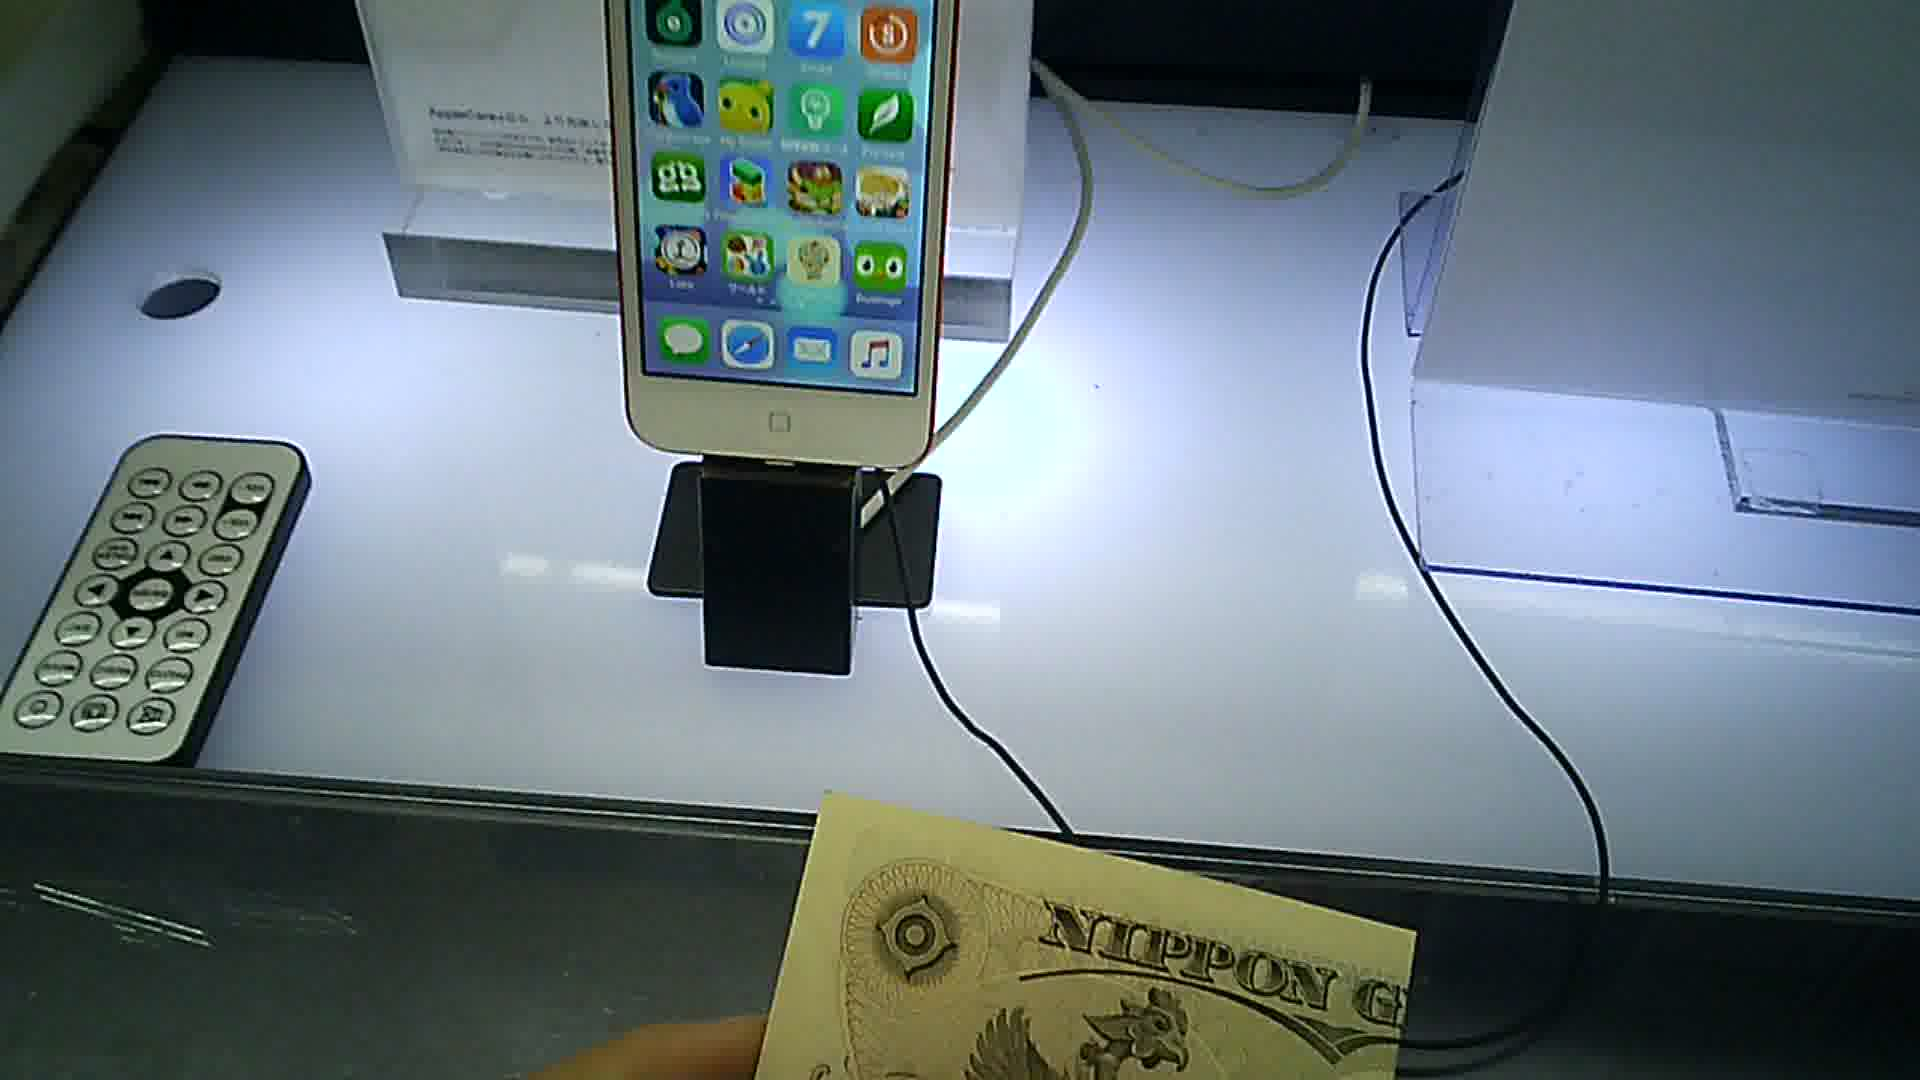10,000 Yen: (725, 775, 1419, 1079)
